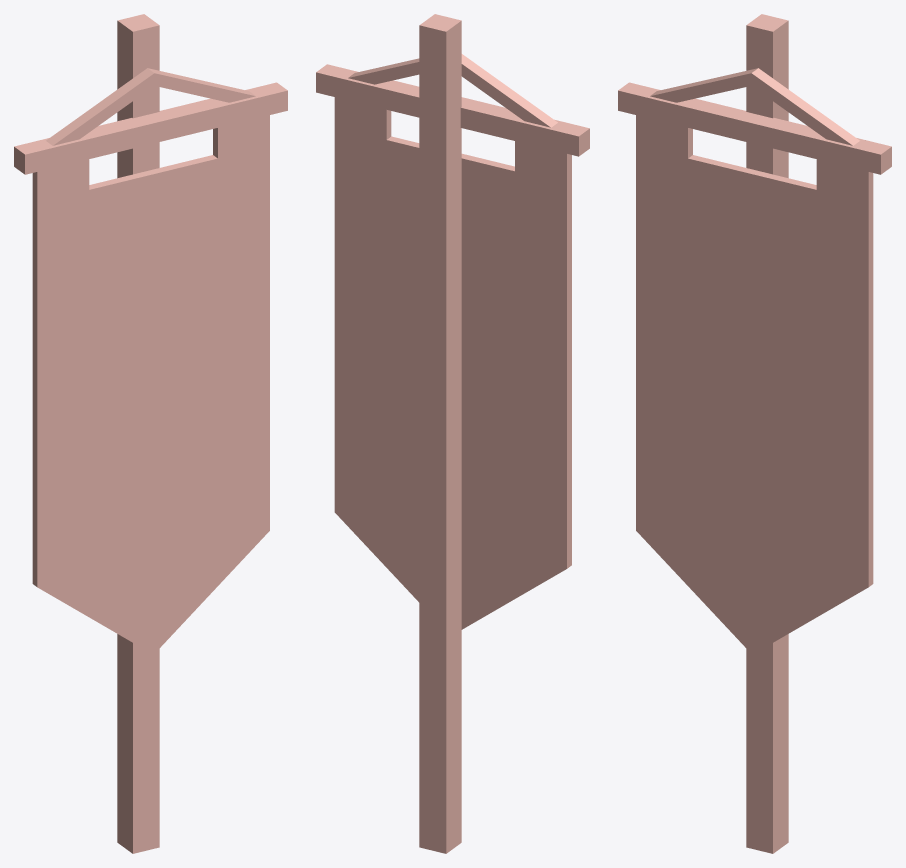
Rendered from Mega_Asset_s_Pack_Cube_346.FBX.
3 views of the same model, side by side, from view 1: azimuth 30°, elevation 25°; view 2: azimuth 150°, elevation 25°; view 3: azimuth 330°, elevation 25° (orthographic).
Visible parts, largest first — view 1: Mega_Asset_s_Pack_Cube_346; view 2: Mega_Asset_s_Pack_Cube_346; view 3: Mega_Asset_s_Pack_Cube_346.
Boxes of the visible parts, <box> form: Mega_Asset_s_Pack_Cube_346: <box>14,14,287,853</box>; Mega_Asset_s_Pack_Cube_346: <box>316,14,589,853</box>; Mega_Asset_s_Pack_Cube_346: <box>618,14,891,853</box>.
Size of what is drawn, in the model's own units: 109 by 18.44 by 325.
